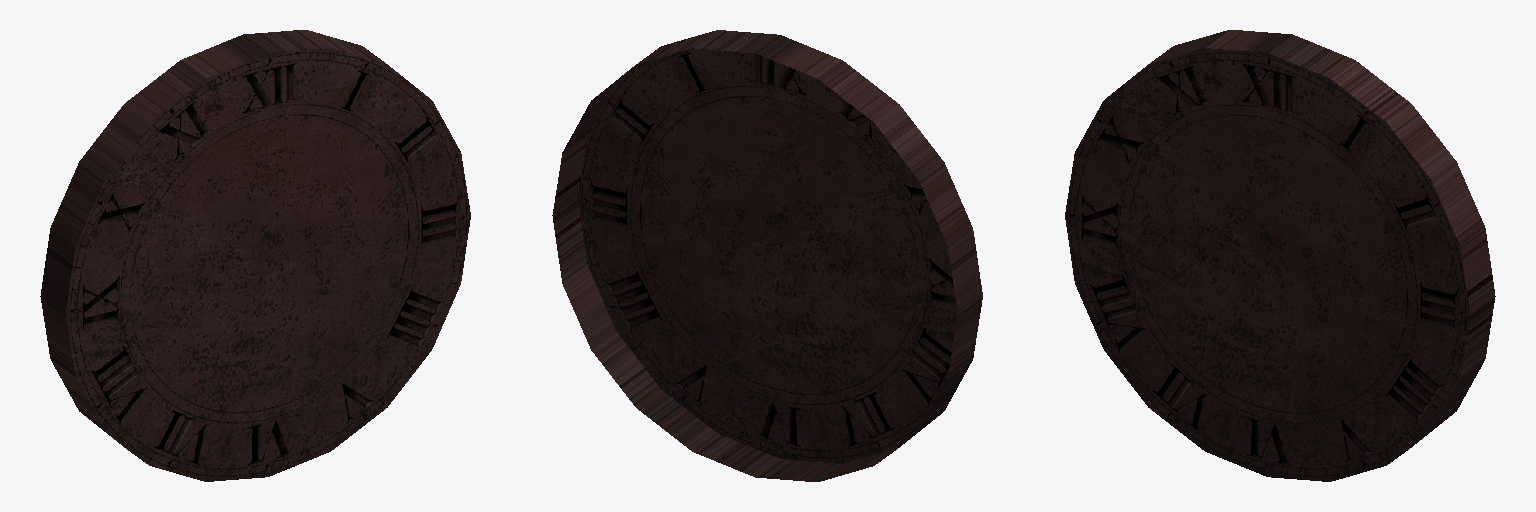
3 views of the same model, side by side, from view 1: azimuth 30°, elevation 25°; view 2: azimuth 150°, elevation 25°; view 3: azimuth 330°, elevation 25° (orthographic).
Visible parts, largest first — view 1: Clock_Combined_Mesh_(root:_scene).011; view 2: Clock_Combined_Mesh_(root:_scene).011; view 3: Clock_Combined_Mesh_(root:_scene).011.
Boxes of the visible parts, box(x1,y1,x2,y2) form: Clock_Combined_Mesh_(root:_scene).011: box(40, 30, 470, 481); Clock_Combined_Mesh_(root:_scene).011: box(552, 30, 982, 481); Clock_Combined_Mesh_(root:_scene).011: box(1065, 30, 1495, 481).
Size of the model in its own units: 0.4499 by 0.4499 by 0.0494.
Materials: 1 (1 with a texture image).